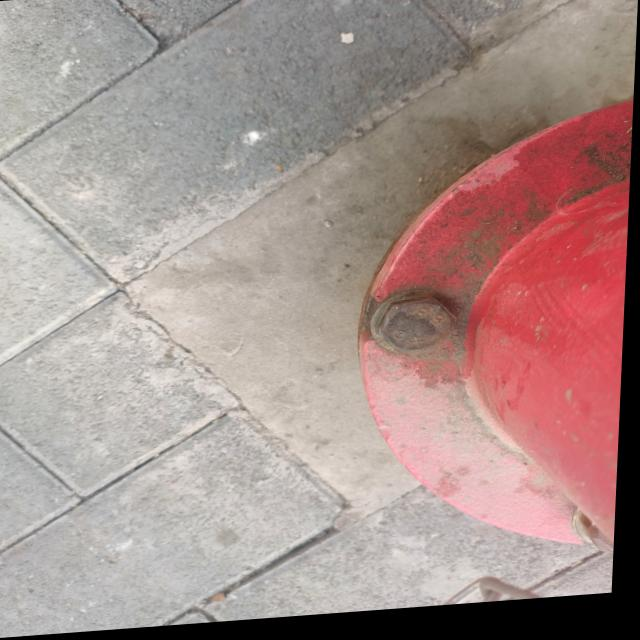Rusty bolt: (378, 301, 460, 364)
